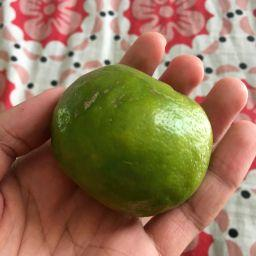Unripe: (54, 63, 213, 218)
